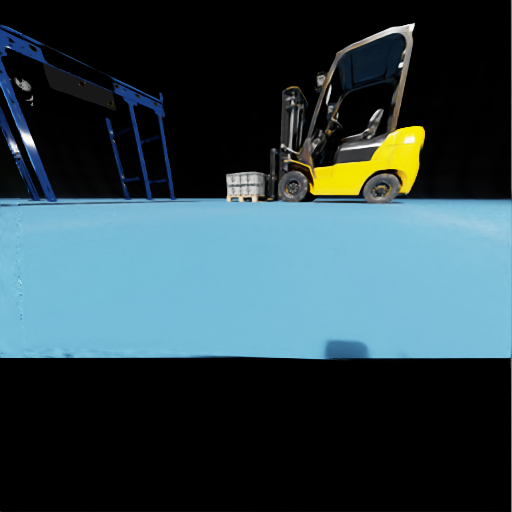transportation_area: (241, 184, 268, 194), (9, 39, 12, 42)
